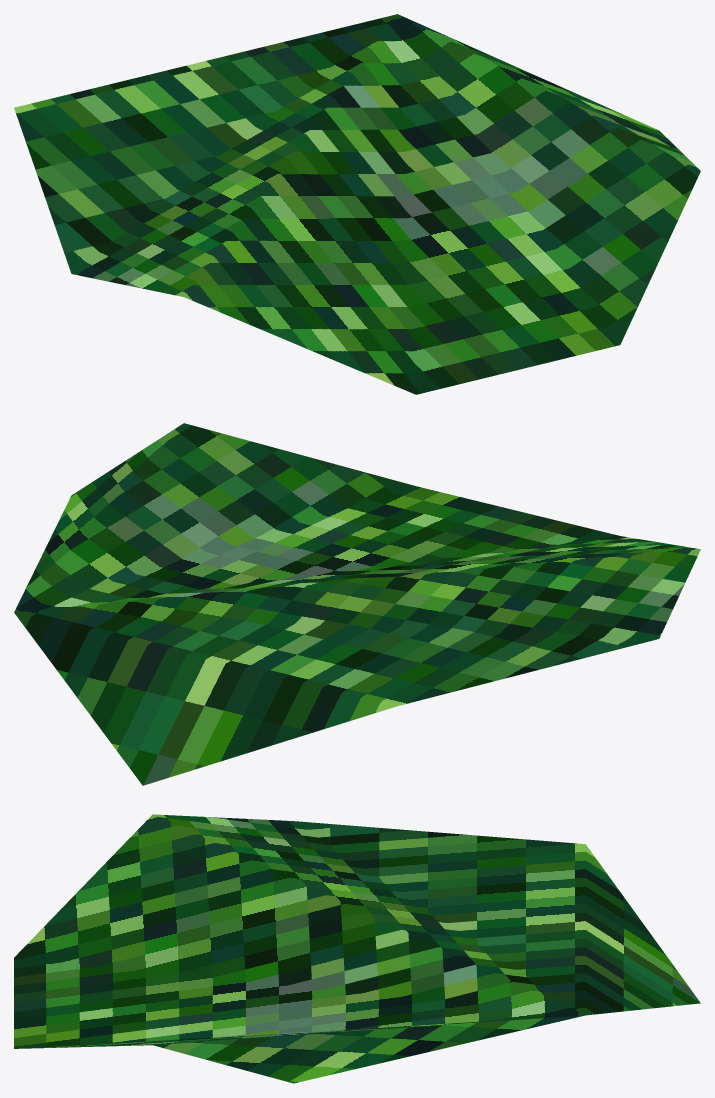
The model's file is leaf.fbx.
3 renders of one model, top to bottom at view 1: azimuth 30°, elevation 25°; view 2: azimuth 150°, elevation 25°; view 3: azimuth 270°, elevation 25°, orthographic. The views are drawn at different scales.
Visible parts, largest first — view 1: leaf; view 2: leaf; view 3: leaf.
Boxes of the visible parts, x1,y1,x2,y2 form: leaf: (14,14,700,394); leaf: (14,423,700,785); leaf: (14,814,700,1083).
Size of the model in its own units: 197 by 25.73 by 218.
